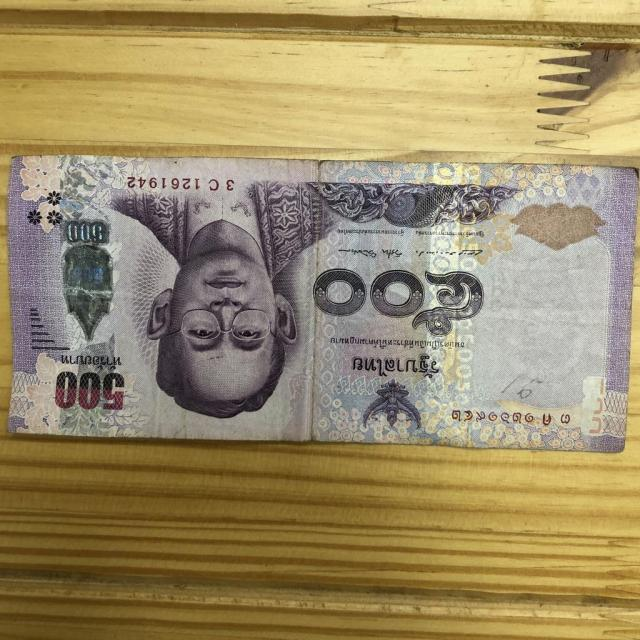THAI500: (8, 156, 638, 452)
